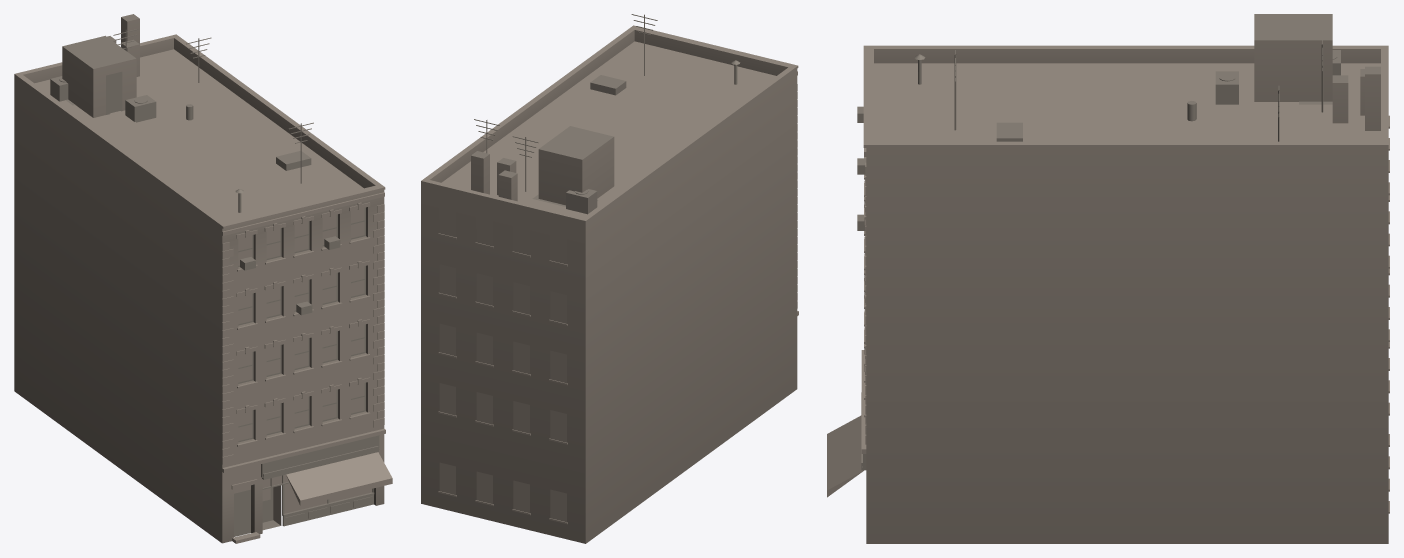
Rendered from tenement_b.glb.
3 views of the same model, side by side, from view 1: azimuth 30°, elevation 25°; view 2: azimuth 150°, elevation 25°; view 3: azimuth 270°, elevation 25° (orthographic). The views are drawn at different scales.
Parts seen in each view (by area): view 1: tenement_b; view 2: tenement_b; view 3: tenement_b.
Part boxes in pixels (box(x1,y1,x2,y2)): tenement_b: box(14, 14, 392, 543); tenement_b: box(421, 14, 798, 543); tenement_b: box(827, 14, 1389, 543).
Size of the model in its own units: 9 by 19.43 by 21.55.
